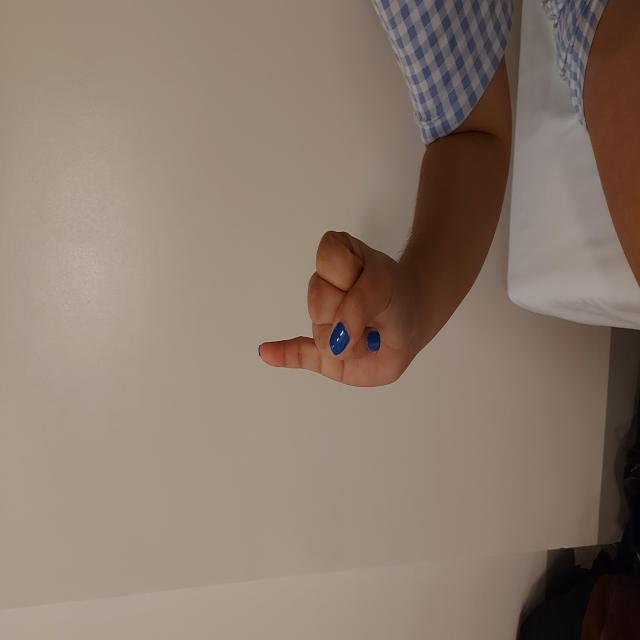I: (253, 257, 412, 413)
